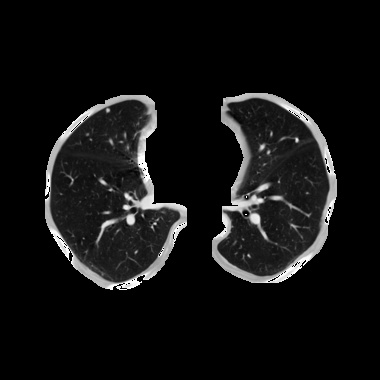PN: (295, 138, 299, 142)
